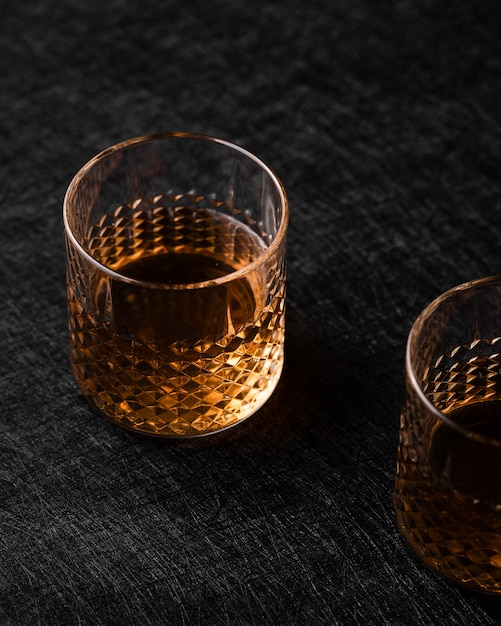alcohol: (61, 135, 291, 440), (396, 269, 501, 596)
